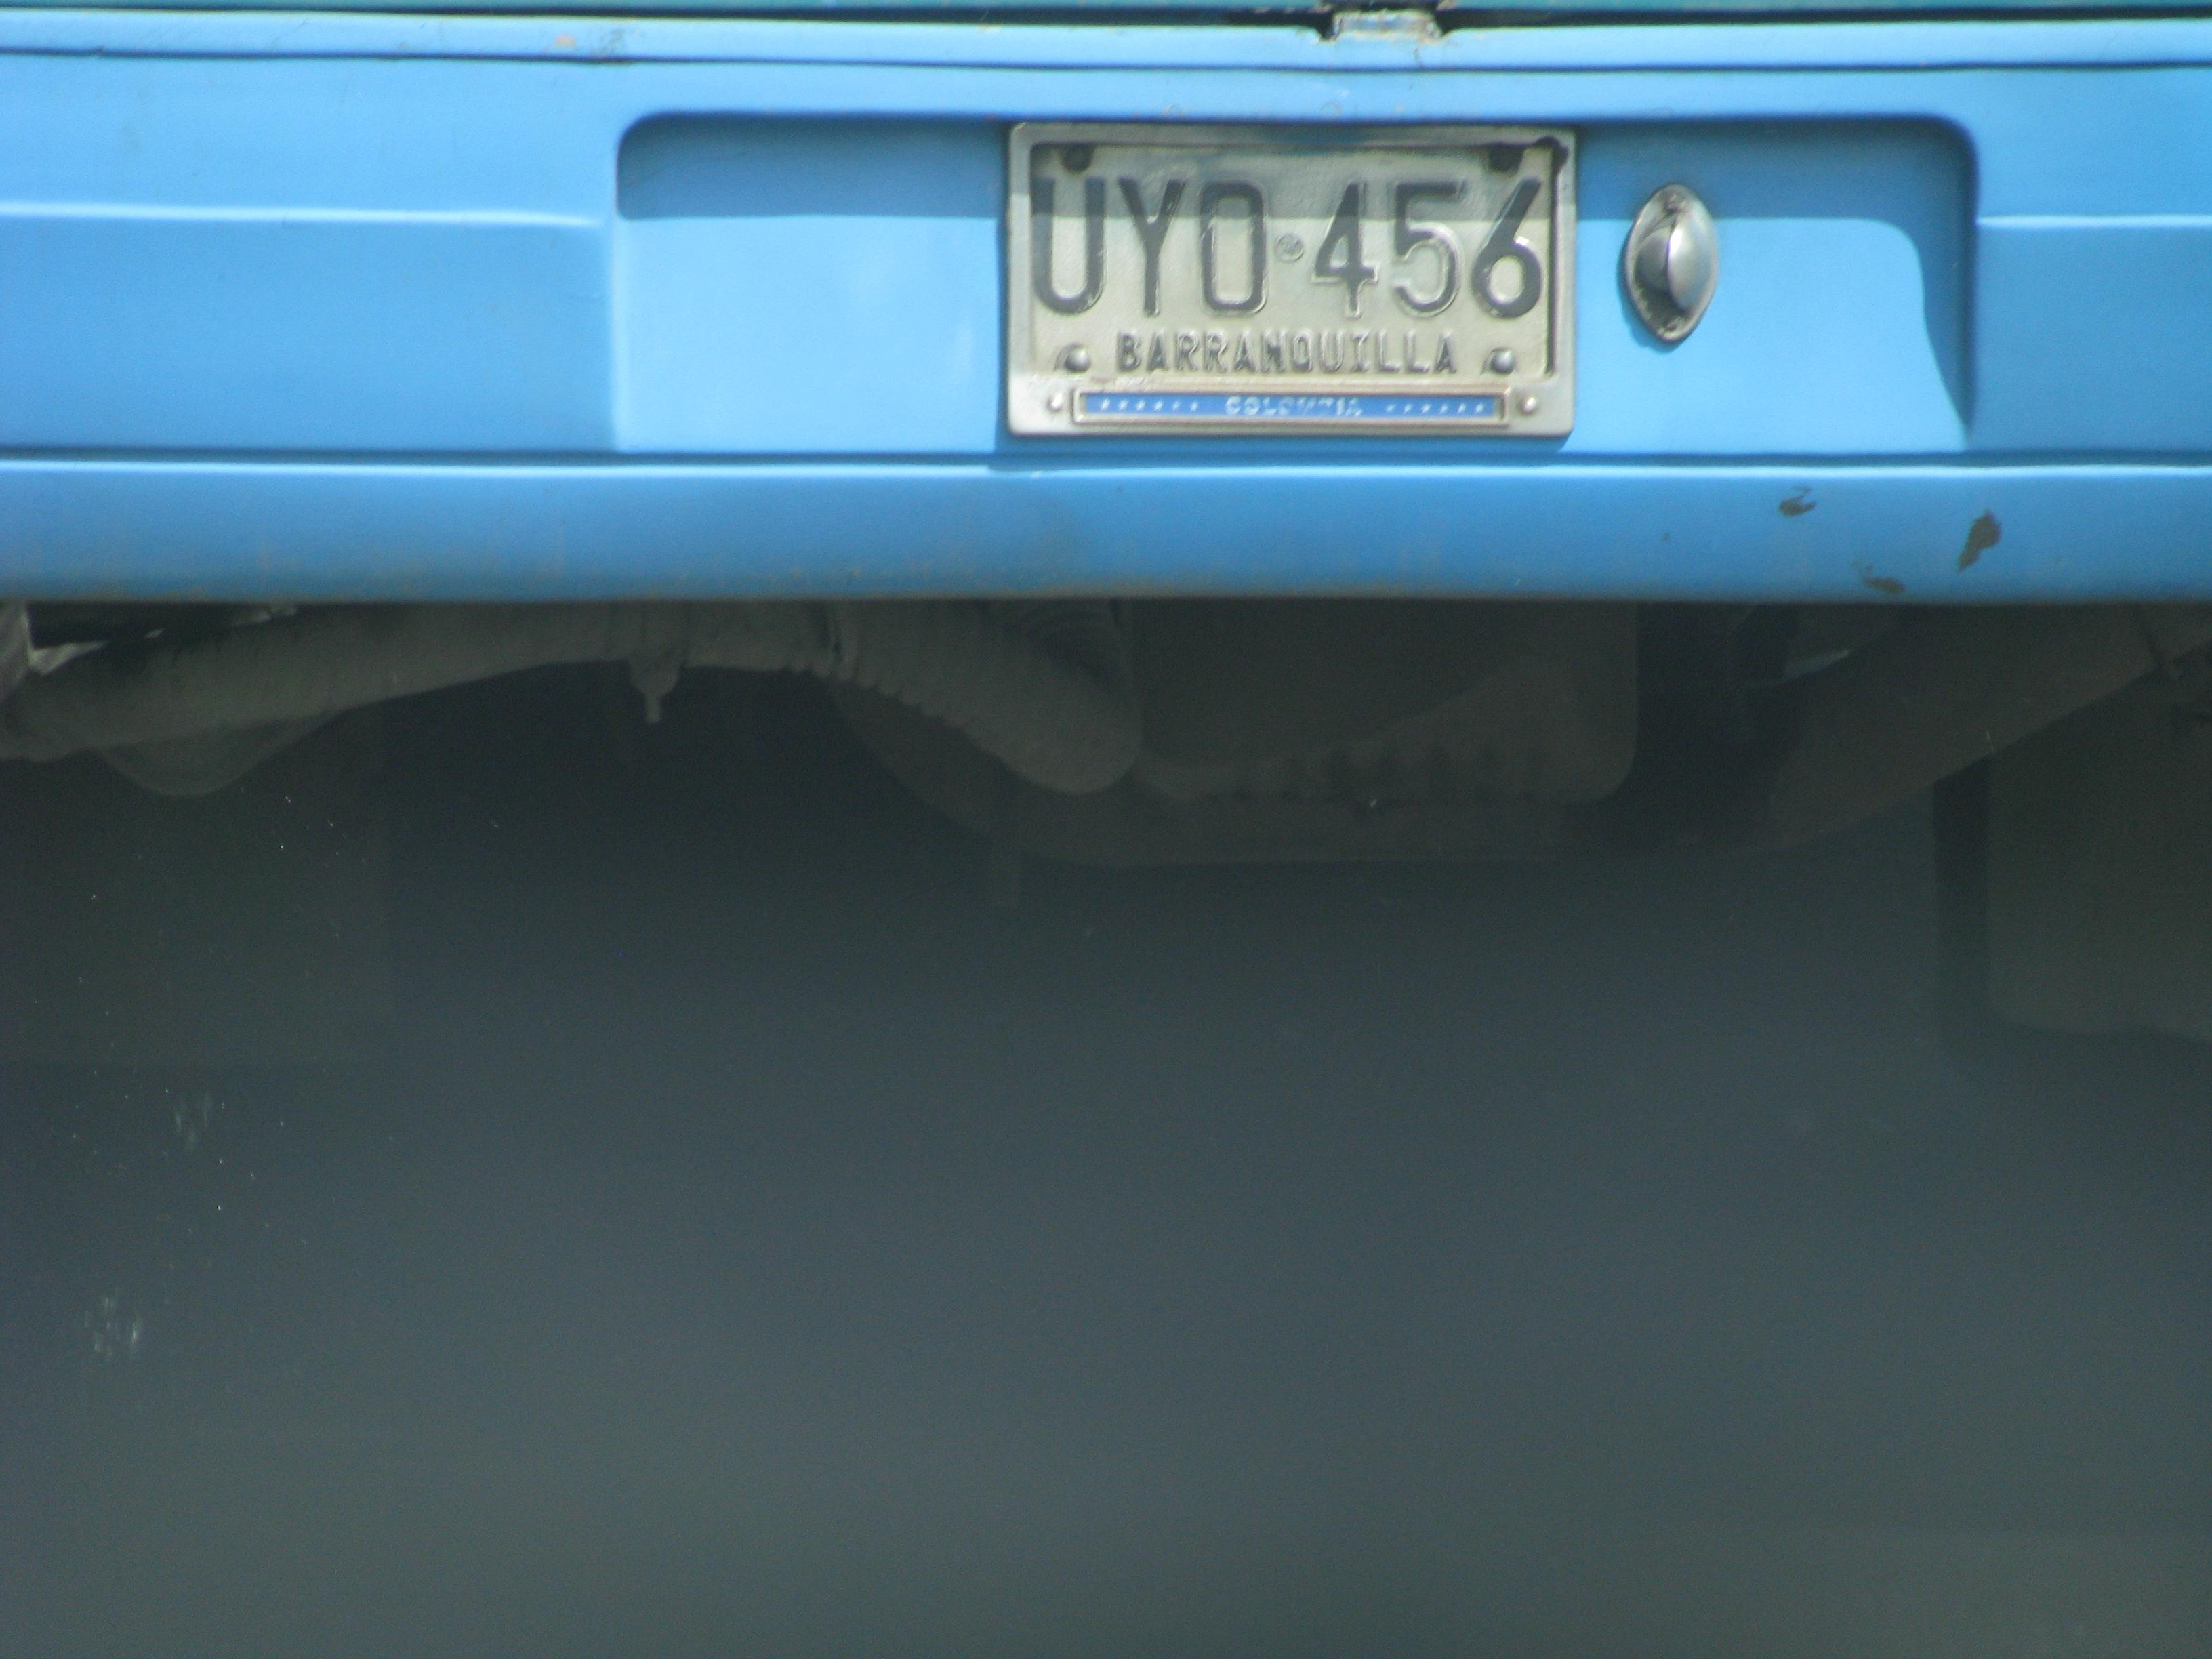placas: (997, 106, 1581, 443)
